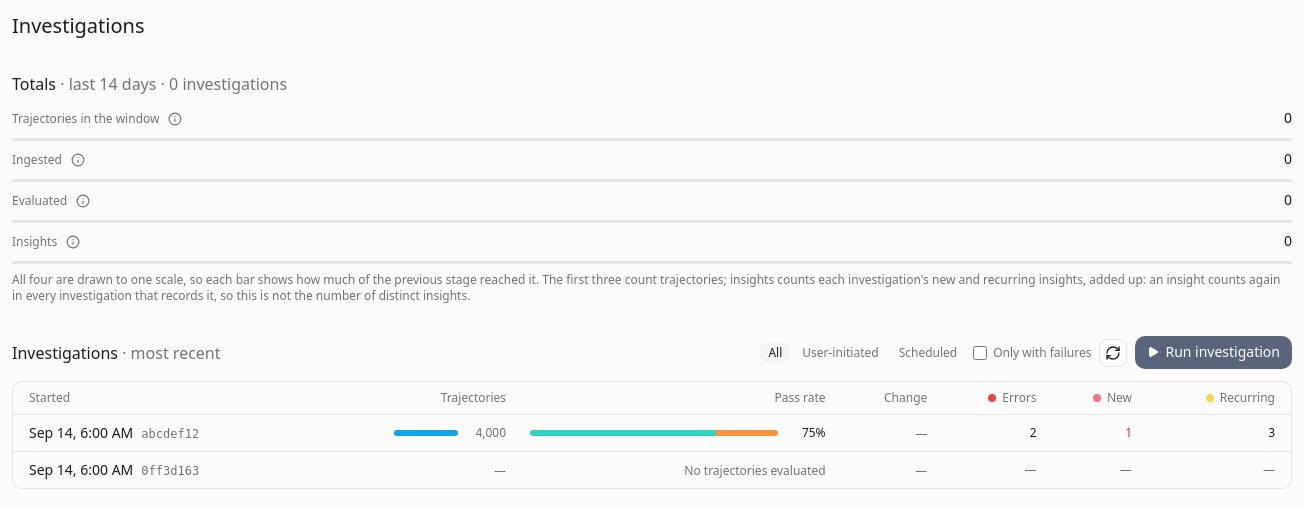
Test: the runs table's counters › hides idle done sweeps when 'Only with failures' is checked
Expected: the link "abcdef12" is shown, [141,426,199,442]
Expected: the link "0ff3d163" is shown, [141,463,199,479]
Click the checkbox labelled "Only with failures": [980, 352] box [973,346,987,360]
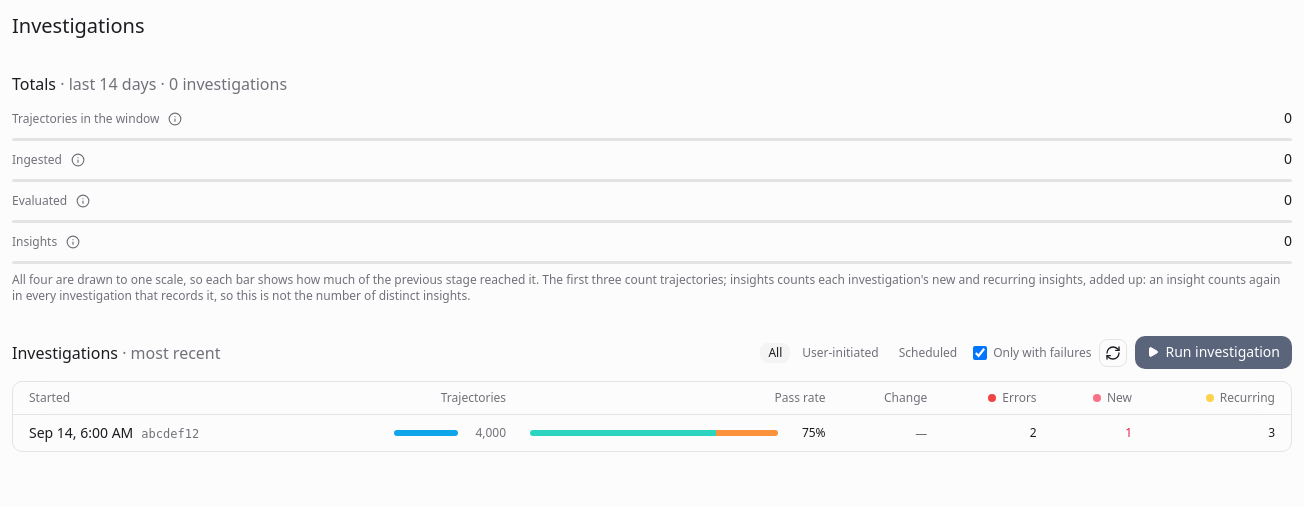
Expected: the link "abcdef12" is shown, [141,426,199,442]
Expected: the link "0ff3d163" is gone
